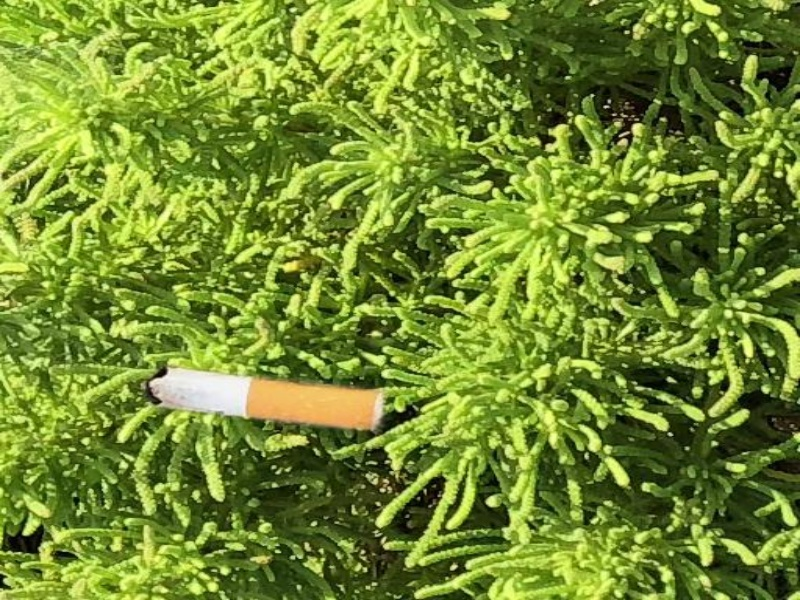cig: (144, 341, 396, 443)
